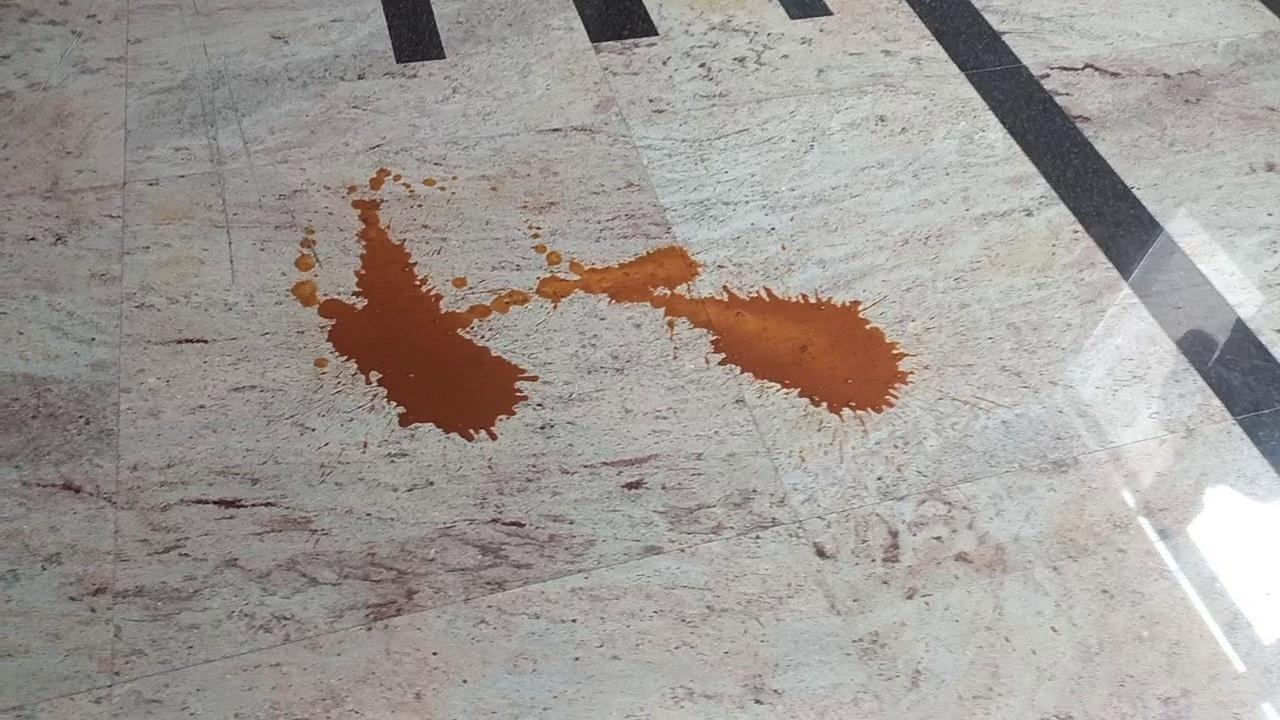dirty_floor: (291, 171, 916, 440)
